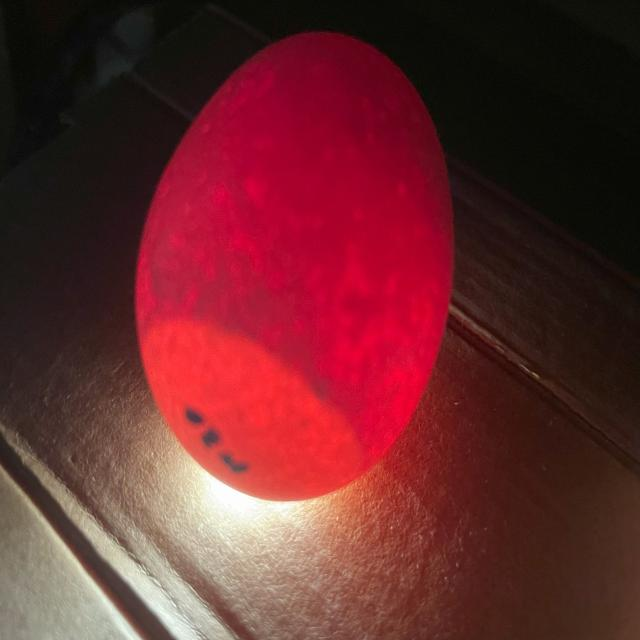fertile: (136, 33, 454, 500)
